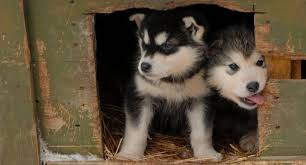Siberian Husky: (116, 8, 218, 165), (205, 21, 278, 116)
